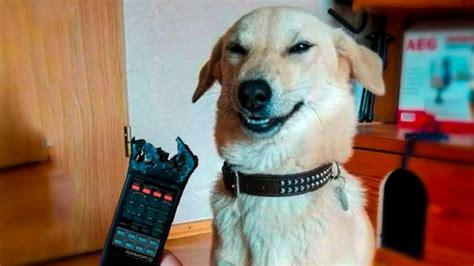dog: (193, 7, 384, 266)
